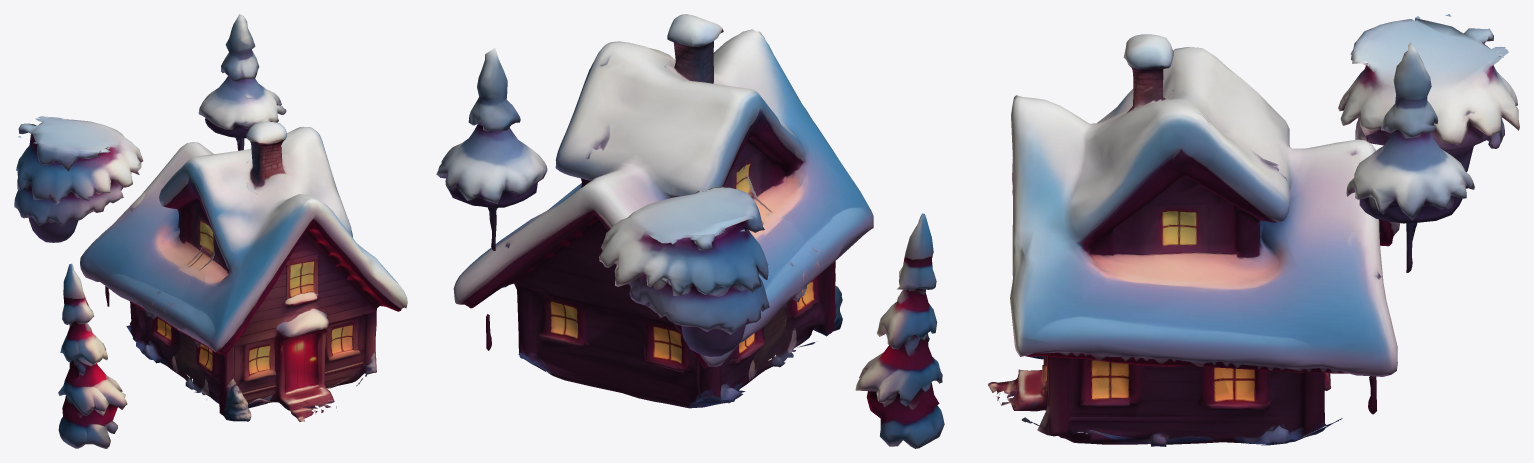
The model's file is house_cabin.glb.
3 views of the same model, side by side, from view 1: azimuth 30°, elevation 25°; view 2: azimuth 150°, elevation 25°; view 3: azimuth 270°, elevation 25° (orthographic). The views are drawn at different scales.
Visible parts, largest first — view 1: tripo_node_7f4e34c0; view 2: tripo_node_7f4e34c0; view 3: tripo_node_7f4e34c0.
Part boxes in pixels (box(x1,y1,x2,y2)): tripo_node_7f4e34c0: box(14, 14, 407, 448); tripo_node_7f4e34c0: box(436, 14, 944, 448); tripo_node_7f4e34c0: box(988, 14, 1519, 446).
Size of the model in its own units: 91.33 by 88.57 by 99.44.
Materials: 1 (1 with a texture image).
